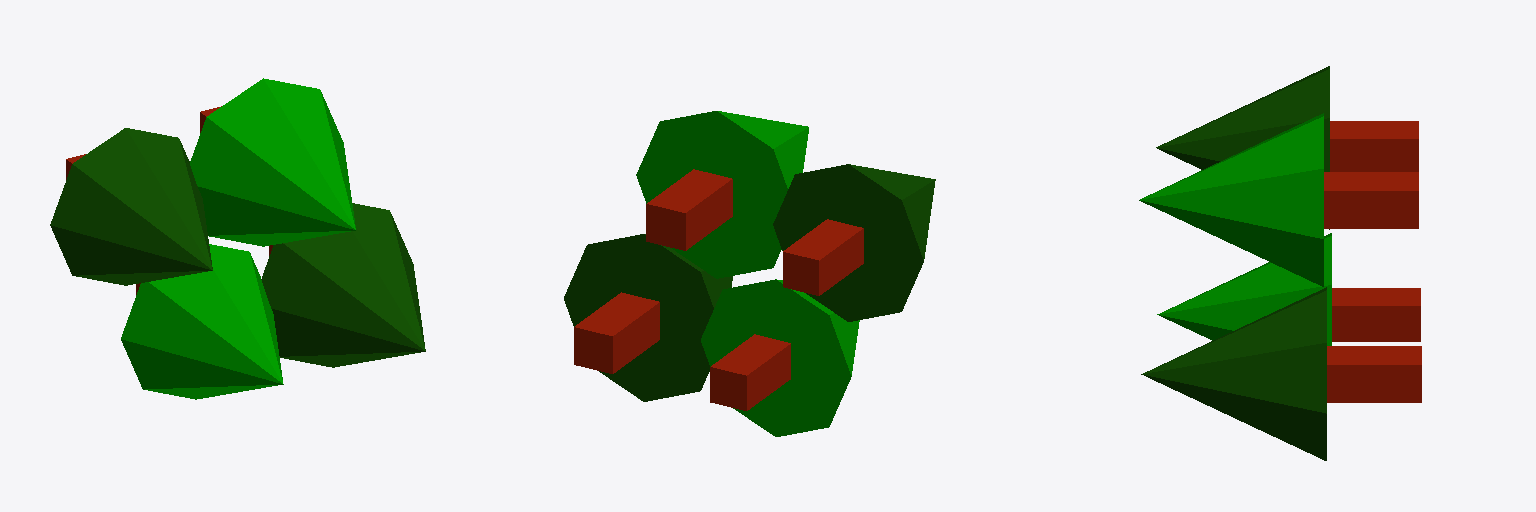
File: forest.obj
3 views of the same model, side by side, from view 1: azimuth 30°, elevation 25°; view 2: azimuth 150°, elevation 25°; view 3: azimuth 270°, elevation 25° (orthographic).
Visible parts, largest first — view 1: Tree.004_Cube.004; view 2: Tree.004_Cube.004; view 3: Tree.004_Cube.004.
Part boxes in pixels (left/top/right/bottom): Tree.004_Cube.004: left=50, top=78, right=425, bottom=399; Tree.004_Cube.004: left=564, top=111, right=935, bottom=436; Tree.004_Cube.004: left=1139, top=66, right=1421, bottom=460.
Bounding box in the file's own units: 2.48 × 2.02 × 1.68.